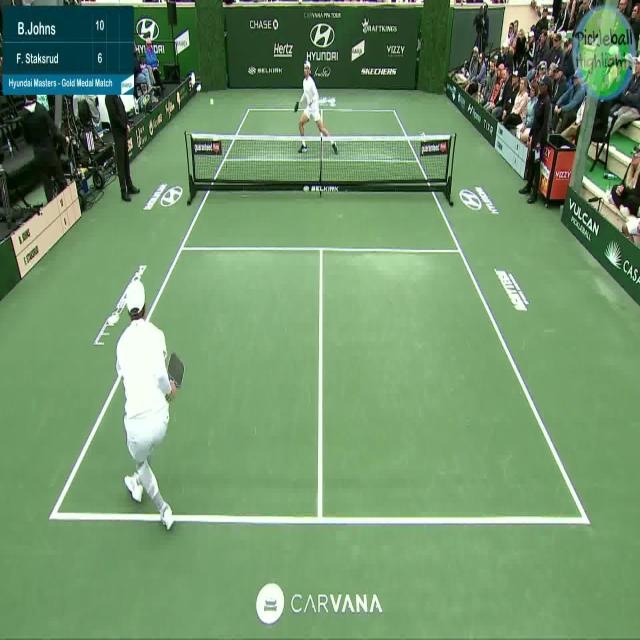ball: (206, 92, 218, 108)
